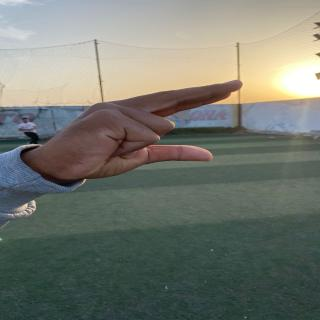DHELL: (32, 77, 265, 181)
